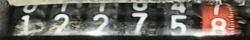digits: (14, 6, 42, 37), (49, 13, 69, 33), (130, 12, 147, 34), (170, 14, 187, 32), (209, 17, 227, 34), (92, 13, 109, 31)
